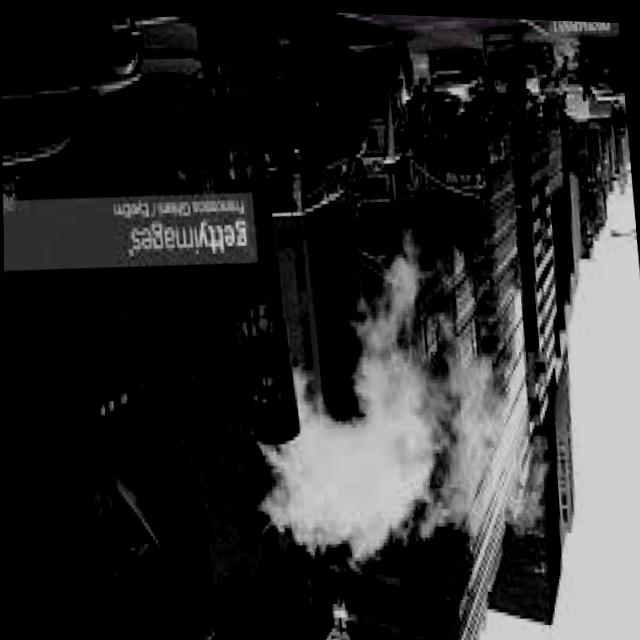no_helmet: (225, 263, 526, 559)
